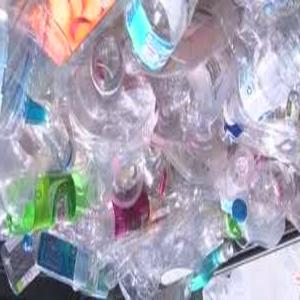Plastic: (220, 33, 300, 125), (122, 0, 196, 74), (232, 161, 300, 227)
